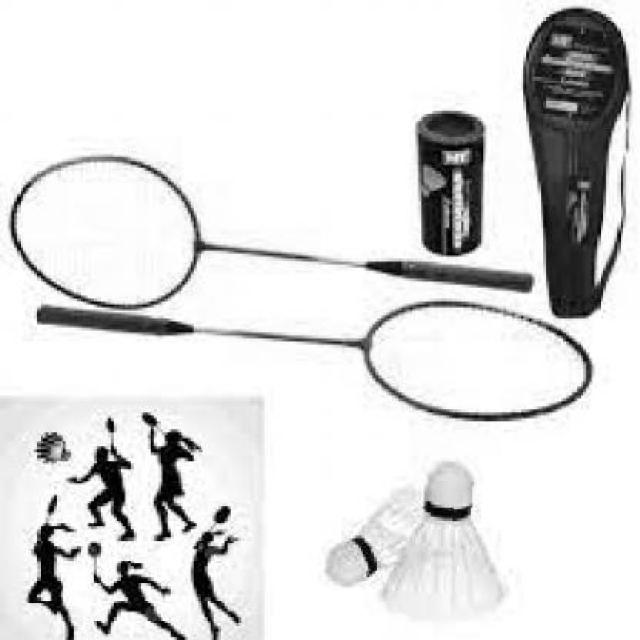Shuttlecock: (323, 457, 514, 620)
